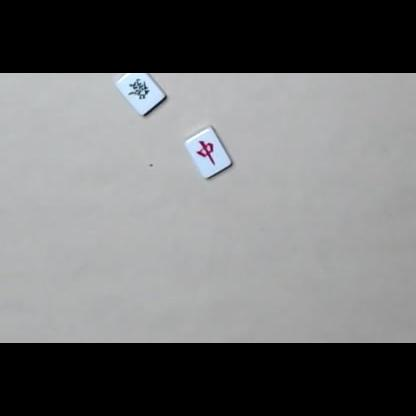6z: (128, 77, 150, 100)
7z: (196, 139, 217, 166)
